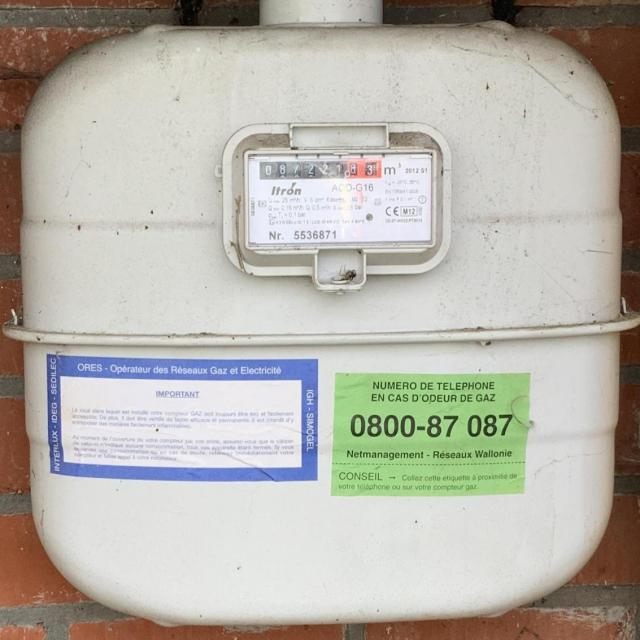gaz_meter: (245, 149, 436, 245)
indication: (258, 154, 384, 183)
